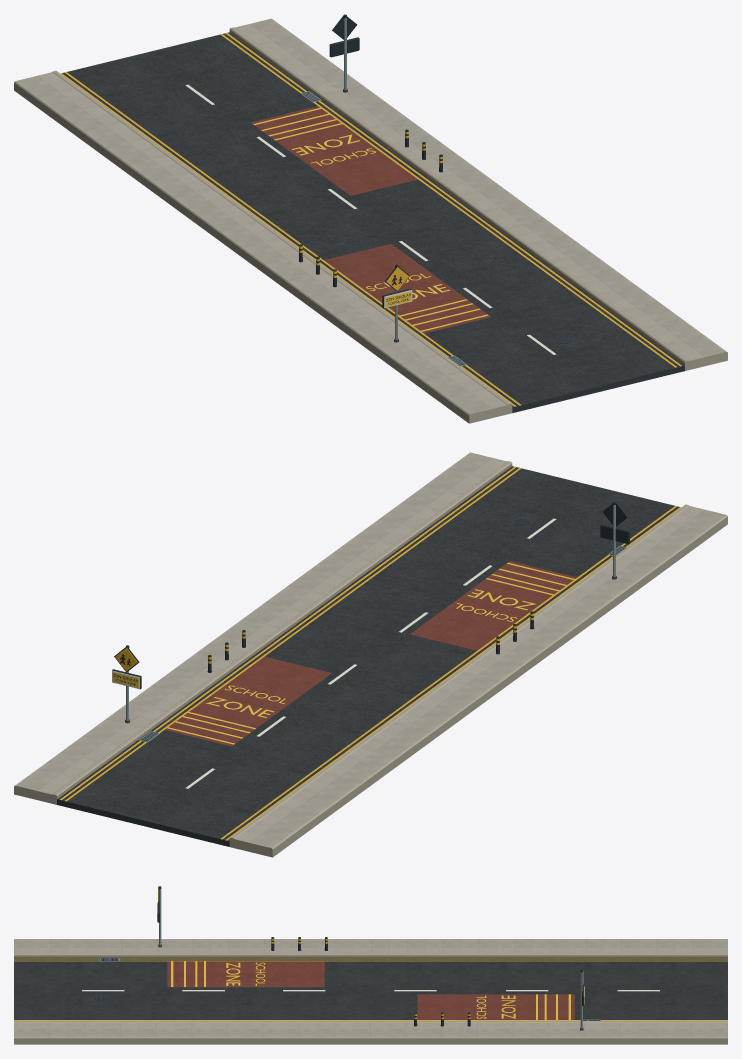
3 views of the same model, one above another, from view 1: azimuth 30°, elevation 25°; view 2: azimuth 150°, elevation 25°; view 3: azimuth 270°, elevation 25° (orthographic). The views are drawn at different scales.
Visible parts, largest first — view 1: Road Deck, Kerbs and Footways, High-Friction Thresholds, Road Markings, School Zone Boards and Bollards, Optical Speed Bars, School Zone Road Legends; view 2: Road Deck, Kerbs and Footways, High-Friction Thresholds, Road Markings, School Zone Boards and Bollards, Optical Speed Bars, School Zone Road Legends; view 3: Road Deck, Kerbs and Footways, High-Friction Thresholds, Road Markings, School Zone Boards and Bollards, School Zone Road Legends, Optical Speed Bars.
Part boxes in pixels (left/top/right/bottom): Road Deck: left=62, top=32, right=684, bottom=412; Kerbs and Footways: left=14, top=18, right=727, bottom=423; High-Friction Thresholds: left=250, top=106, right=491, bottom=333; Road Markings: left=60, top=33, right=681, bottom=406; School Zone Boards and Bollards: left=299, top=14, right=442, bottom=342; Optical Speed Bars: left=253, top=108, right=488, bottom=331; School Zone Road Legends: left=292, top=134, right=449, bottom=299; Road Deck: left=57, top=466, right=679, bottom=846; Kerbs and Footways: left=14, top=452, right=727, bottom=857; High-Friction Thresholds: left=165, top=561, right=576, bottom=746; Road Markings: left=60, top=466, right=681, bottom=840; School Zone Boards and Bollards: left=112, top=501, right=629, bottom=723; Optical Speed Bars: left=167, top=562, right=574, bottom=744; School Zone Road Legends: left=205, top=589, right=535, bottom=717; Road Deck: left=14, top=957, right=727, bottom=1019; Kerbs and Footways: left=14, top=939, right=727, bottom=1044; High-Friction Thresholds: left=167, top=961, right=574, bottom=1019; Road Markings: left=14, top=958, right=727, bottom=1020; School Zone Boards and Bollards: left=157, top=886, right=584, bottom=1030; School Zone Road Legends: left=226, top=962, right=515, bottom=1018; Optical Speed Bars: left=171, top=961, right=570, bottom=1019.
Size of the model in its own units: 10.5 by 3.32 by 32.
13 materials, 3 textured.
